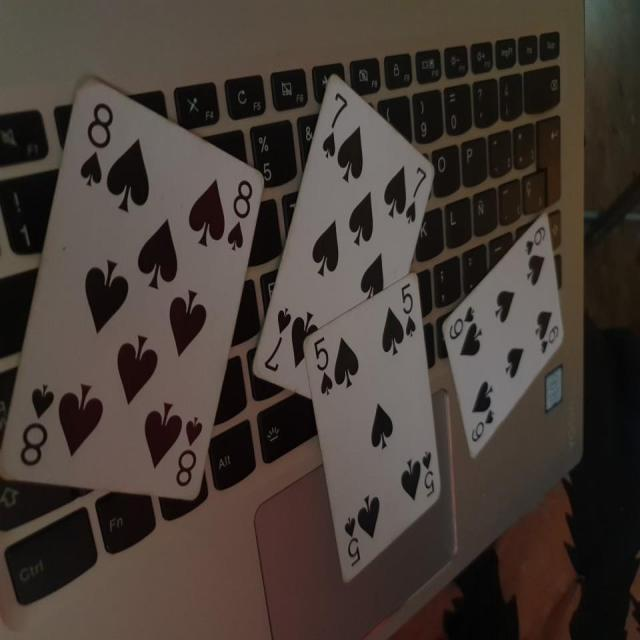5 Spades: (307, 269, 453, 586)
6 Spades: (438, 205, 573, 468)
7 Spades: (254, 61, 439, 416)
8 Spades: (1, 70, 263, 513)
